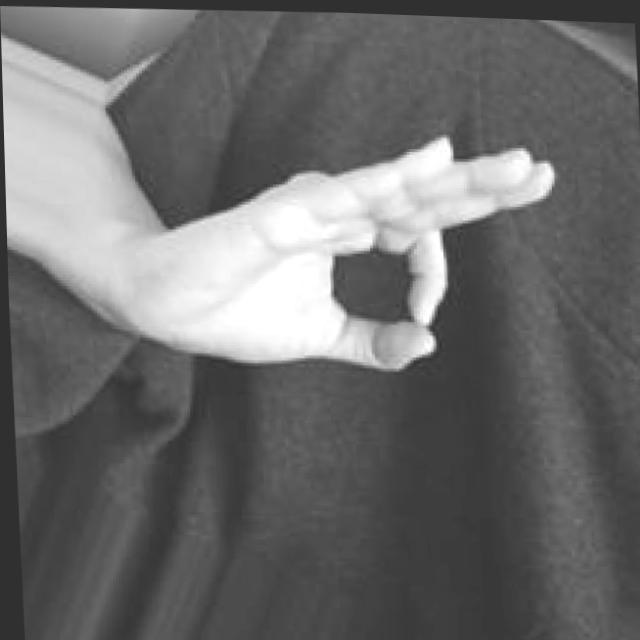O: (124, 120, 573, 390)
